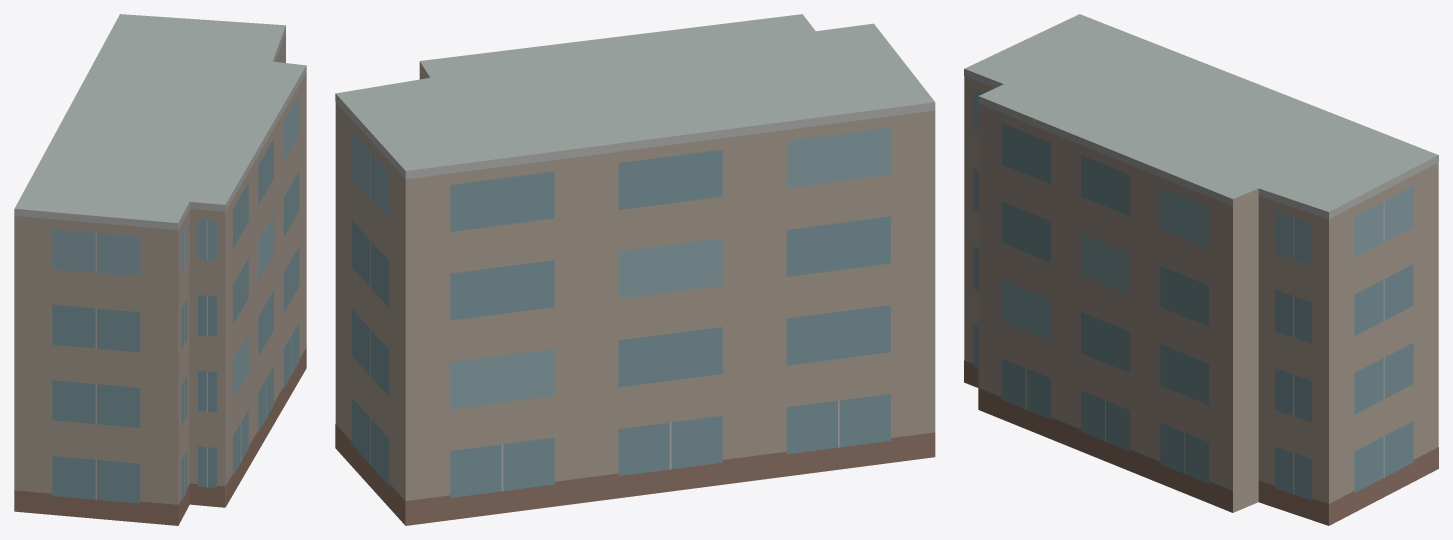
Rendered from survey-upis-32757411.glb.
3 renders of one model, left to right at view 1: azimuth 30°, elevation 25°; view 2: azimuth 150°, elevation 25°; view 3: azimuth 270°, elevation 25°, orthographic. The views are drawn at different scales.
Parts seen in each view (by area): view 1: survey-upis-32757411.tmp; view 2: survey-upis-32757411.tmp; view 3: survey-upis-32757411.tmp.
Boxes of the visible parts, box(x1,y1,x2,y2) form: survey-upis-32757411.tmp: box(14, 14, 306, 525); survey-upis-32757411.tmp: box(335, 14, 935, 525); survey-upis-32757411.tmp: box(964, 14, 1438, 525).
Size of the model in its own units: 14.22 by 10.5 by 14.4.
